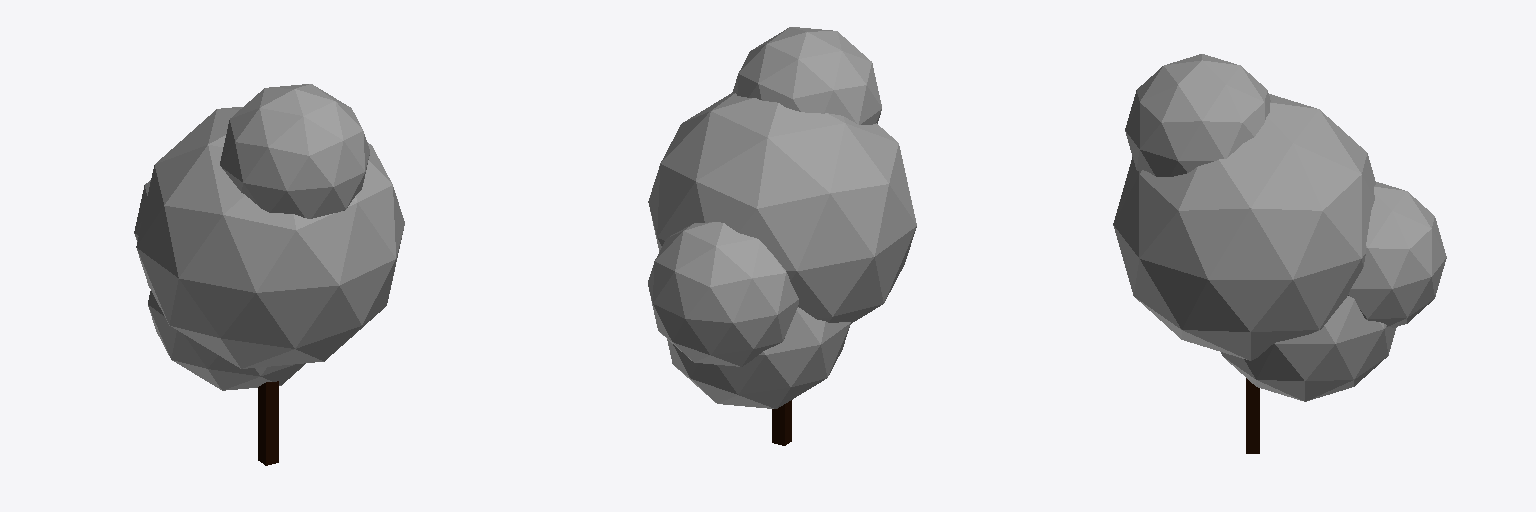
The model's file is Arbol2.obj.
3 views of the same model, side by side, from view 1: azimuth 30°, elevation 25°; view 2: azimuth 150°, elevation 25°; view 3: azimuth 270°, elevation 25° (orthographic).
Parts seen in each view (by area): view 1: Cube.064_Cube.019; view 2: Cube.064_Cube.019; view 3: Cube.064_Cube.019.
Part boxes in pixels (bbox=[...]): Cube.064_Cube.019: bbox=[134, 84, 404, 465]; Cube.064_Cube.019: bbox=[648, 27, 916, 445]; Cube.064_Cube.019: bbox=[1113, 54, 1446, 453].
Bounding box in the file's own units: 2.67 × 4.4 × 3.4.